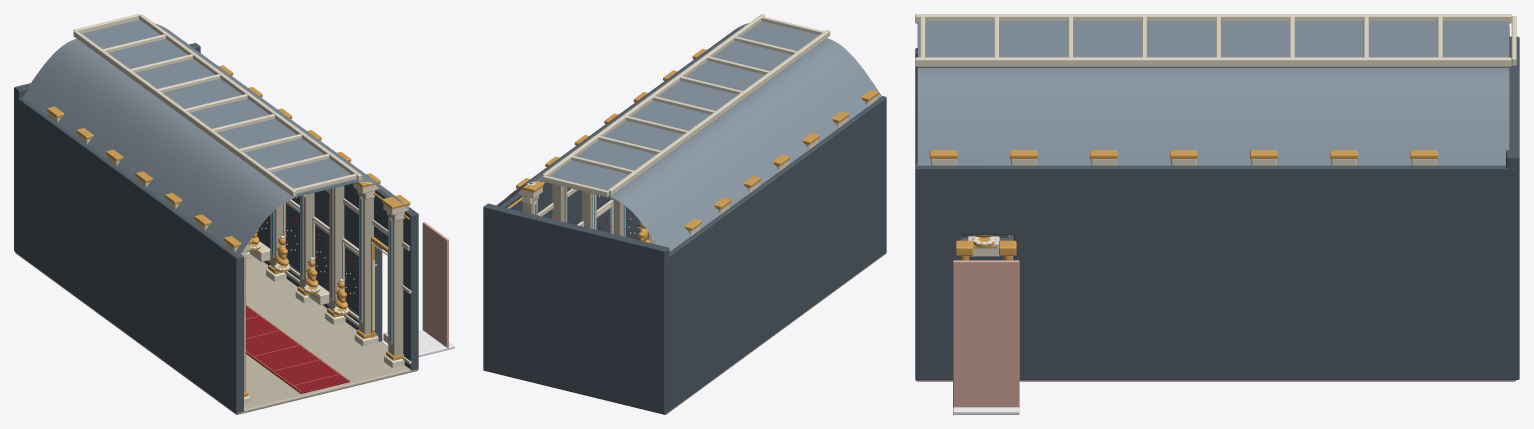
File: mandap-interior-reconstruction.glb
The picture shows the model from 3 angles, left to right: view 1: azimuth 30°, elevation 25°; view 2: azimuth 150°, elevation 25°; view 3: azimuth 270°, elevation 25°; orthographic projection. The views are drawn at different scales.
Visible parts, largest first — view 1: Hall | inner left wall, Ceiling | curved side vault -1, Ceiling | central coffer field, Hall | honed stone floor, Hall | continuous red carpet, Portal | warm rose chamber backdrop, Hall | right wall front return, Hall | right wall sanctuary return, Ceiling | longitudinal ornamental beam, Pier 1.01 | carved shaft, Ceiling | longitudinal ornamental beam.001, Pier 1.03 | carved shaft (+10 smaller); view 2: Hall | inner left wall, Hall | sanctuary end wall, Ceiling | curved side vault -1, Ceiling | central coffer field, Ceiling | longitudinal ornamental beam, Ceiling | longitudinal ornamental beam.001, Hall | right wall sanctuary return, Ceiling | curved side vault 1, Pier 1.06 | carved shaft, Coffer | transverse frame 08, Pier 1.05 | carved shaft, Pier 1.04 | carved shaft; view 3: Hall | right wall sanctuary return, Ceiling | curved side vault 1, Ceiling | central coffer field, Portal | warm rose chamber backdrop, Hall | right wall front return, Ceiling | longitudinal ornamental beam.001, Ceiling | longitudinal ornamental beam, Hall | right wall portal lintel, Hall | sanctuary end wall, Hall | honed stone floor.
Part boxes in pixels (<box>): Hall | inner left wall: <box>15,97,243,413</box>; Ceiling | curved side vault -1: <box>23,39,294,256</box>; Ceiling | central coffer field: <box>82,19,358,197</box>; Hall | honed stone floor: <box>15,252,417,414</box>; Hall | continuous red carpet: <box>246,305,349,393</box>; Portal | warm rose chamber backdrop: <box>422,222,448,348</box>; Hall | right wall front return: <box>403,207,418,370</box>; Hall | right wall sanctuary return: <box>264,183,382,341</box>; Ceiling | longitudinal ornamental beam: <box>73,30,296,196</box>; Pier 1.01 | carved shaft: <box>388,213,403,355</box>; Ceiling | longitudinal ornamental beam.001: <box>139,14,361,180</box>; Pier 1.03 | carved shaft: <box>329,185,344,311</box>; Hall | inner left wall: <box>666,96,886,413</box>; Hall | sanctuary end wall: <box>483,203,669,414</box>; Ceiling | curved side vault -1: <box>609,38,881,251</box>; Ceiling | central coffer field: <box>549,21,819,196</box>; Ceiling | longitudinal ornamental beam: <box>608,30,830,195</box>; Ceiling | longitudinal ornamental beam.001: <box>542,14,764,176</box>; Hall | right wall sanctuary return: <box>496,181,611,224</box>; Ceiling | curved side vault 1: <box>498,23,748,206</box>; Pier 1.06 | carved shaft: <box>552,184,567,222</box>; Coffer | transverse frame 08: <box>542,175,608,197</box>; Pier 1.05 | carved shaft: <box>581,191,596,229</box>; Pier 1.04 | carved shaft: <box>611,198,625,236</box>; Hall | right wall sanctuary return: <box>1014,165,1515,379</box>; Ceiling | curved side vault 1: <box>917,68,1509,165</box>; Ceiling | central coffer field: <box>917,21,1509,67</box>; Portal | warm rose chamber backdrop: <box>953,260,1019,407</box>; Hall | right wall front return: <box>915,163,960,379</box>; Ceiling | longitudinal ornamental beam.001: <box>915,57,1511,66</box>; Ceiling | longitudinal ornamental beam: <box>915,14,1511,23</box>; Hall | right wall portal lintel: <box>955,165,1016,234</box>; Hall | sanctuary end wall: <box>1506,36,1519,379</box>; Hall | honed stone floor: <box>915,379,1516,381</box>.
Bounding box in the file's own units: 14.81 × 12.78 × 24.53.
